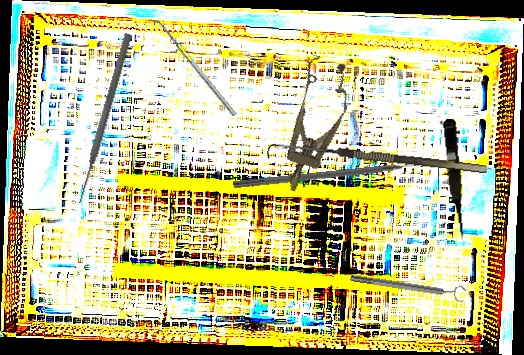Fixation Ring: (349, 268, 467, 304)
Hook Surgical: (266, 138, 488, 186), (233, 160, 429, 191)
Micro Scissor: (439, 118, 469, 242)
Pusher: (74, 32, 134, 205)
Spatula Surgical: (149, 15, 237, 120)
Speculum: (267, 53, 360, 199)
